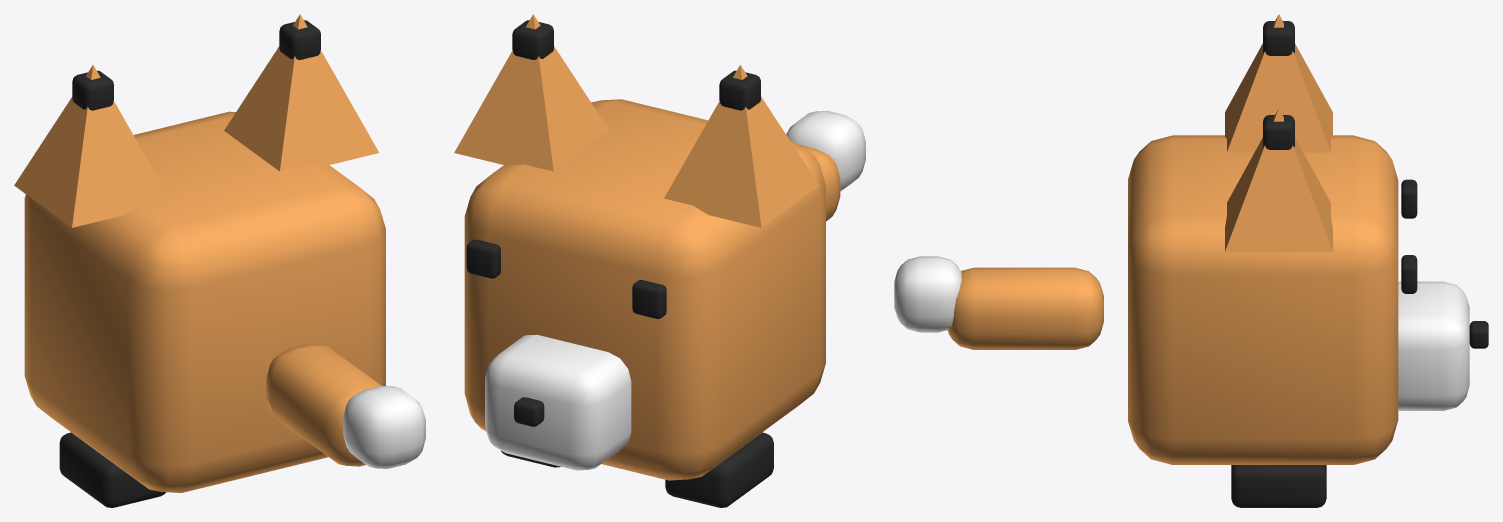
File: Fox.fbx
The picture shows the model from 3 angles, left to right: view 1: azimuth 30°, elevation 25°; view 2: azimuth 150°, elevation 25°; view 3: azimuth 270°, elevation 25°; orthographic projection. The views are drawn at different scales.
Parts seen in each view (by area): view 1: Fox_Body, Fox_Ear_-1, Fox_Ear_1, Fox_Tail, Fox_TailTip, Fox_Foot_-1, Fox_EarTip_-1, Fox_EarTip_1; view 2: Fox_Body, Fox_Muzzle, Fox_Ear_-1, Fox_Ear_1, Fox_Foot_-1, Fox_TailTip, Fox_EarTip_-1, Fox_EarTip_1, Fox_Eye_1, Fox_Eye_-1, Fox_Tail, Fox_Nose; view 3: Fox_Body, Fox_Tail, Fox_Ear_1, Fox_Muzzle, Fox_Ear_-1, Fox_TailTip, Fox_Foot_1, Fox_EarTip_-1, Fox_EarTip_1.
Part boxes in pixels (x1,y1,x2,y2): Fox_Body: [24, 111, 385, 492]; Fox_Ear_-1: [14, 65, 169, 227]; Fox_Ear_1: [224, 14, 379, 171]; Fox_Tail: [266, 344, 381, 466]; Fox_TailTip: [343, 385, 425, 468]; Fox_Foot_-1: [59, 432, 165, 507]; Fox_EarTip_-1: [72, 70, 113, 110]; Fox_EarTip_1: [279, 20, 320, 59]; Fox_Body: [464, 99, 825, 480]; Fox_Muzzle: [485, 334, 631, 470]; Fox_Ear_-1: [664, 65, 819, 227]; Fox_Ear_1: [454, 14, 609, 171]; Fox_Foot_-1: [665, 432, 773, 507]; Fox_TailTip: [786, 111, 865, 191]; Fox_EarTip_-1: [719, 70, 760, 110]; Fox_EarTip_1: [512, 20, 553, 59]; Fox_Eye_1: [466, 239, 500, 278]; Fox_Eye_-1: [632, 280, 666, 318]; Fox_Tail: [798, 144, 840, 221]; Fox_Nose: [514, 397, 544, 426]; Fox_Body: [1128, 135, 1398, 464]; Fox_Tail: [947, 267, 1103, 349]; Fox_Ear_1: [1225, 108, 1332, 251]; Fox_Muzzle: [1398, 281, 1469, 410]; Fox_Ear_-1: [1225, 14, 1332, 152]; Fox_TailTip: [894, 256, 961, 332]; Fox_Foot_1: [1231, 465, 1326, 507]; Fox_EarTip_-1: [1263, 21, 1294, 55]; Fox_EarTip_1: [1263, 115, 1294, 149].
Size of the model in its own units: 104 by 138 by 187.
